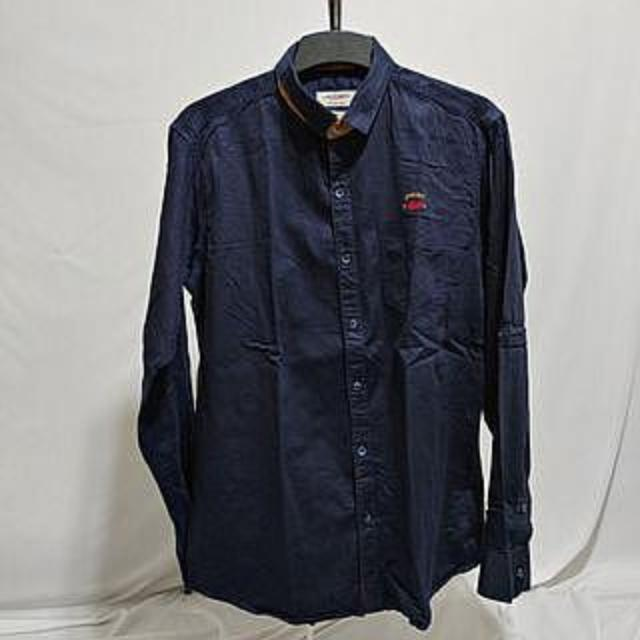SHORT: (107, 22, 583, 640)
